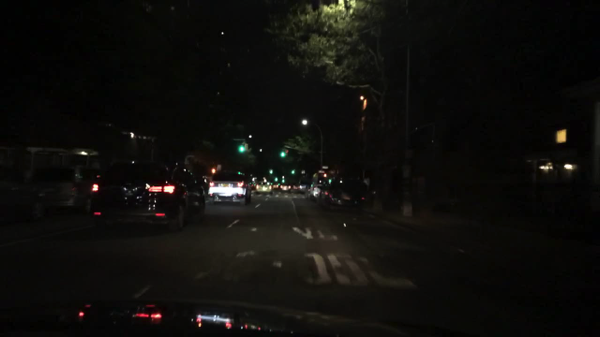car: (88, 160, 206, 232), (35, 165, 94, 214), (0, 163, 44, 222), (318, 180, 367, 214), (305, 180, 326, 201), (255, 180, 272, 196), (300, 176, 309, 194), (280, 180, 291, 192), (293, 182, 300, 190), (251, 184, 256, 190), (274, 184, 279, 190)
traffic light: (239, 144, 244, 152), (284, 150, 288, 157), (212, 168, 215, 175), (281, 177, 285, 182), (323, 173, 327, 178), (281, 151, 284, 157), (270, 169, 273, 174), (275, 177, 278, 182), (293, 170, 294, 175)
traffic sign: (301, 170, 307, 175), (319, 170, 325, 175), (321, 165, 328, 169)
truck: (209, 172, 249, 206)
